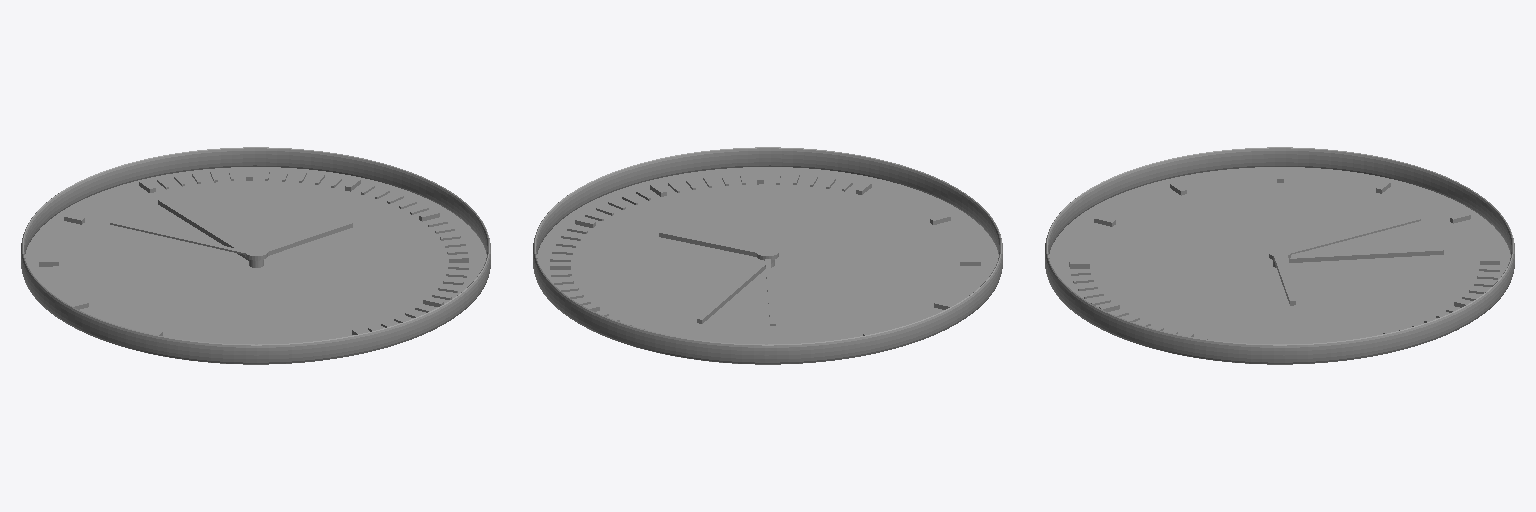
File: Relogio.obj
3 renders of one model, left to right at view 1: azimuth 30°, elevation 25°; view 2: azimuth 150°, elevation 25°; view 3: azimuth 270°, elevation 25°, orthographic.
Visible parts, largest first — view 1: Relogio; view 2: Relogio; view 3: Relogio.
Part boxes in pixels (x1,y1,x2,y2): Relogio: (21, 147, 490, 364); Relogio: (533, 147, 1002, 364); Relogio: (1045, 147, 1514, 364).
Bounding box in the file's own units: 1.99 × 0.0938 × 1.99.